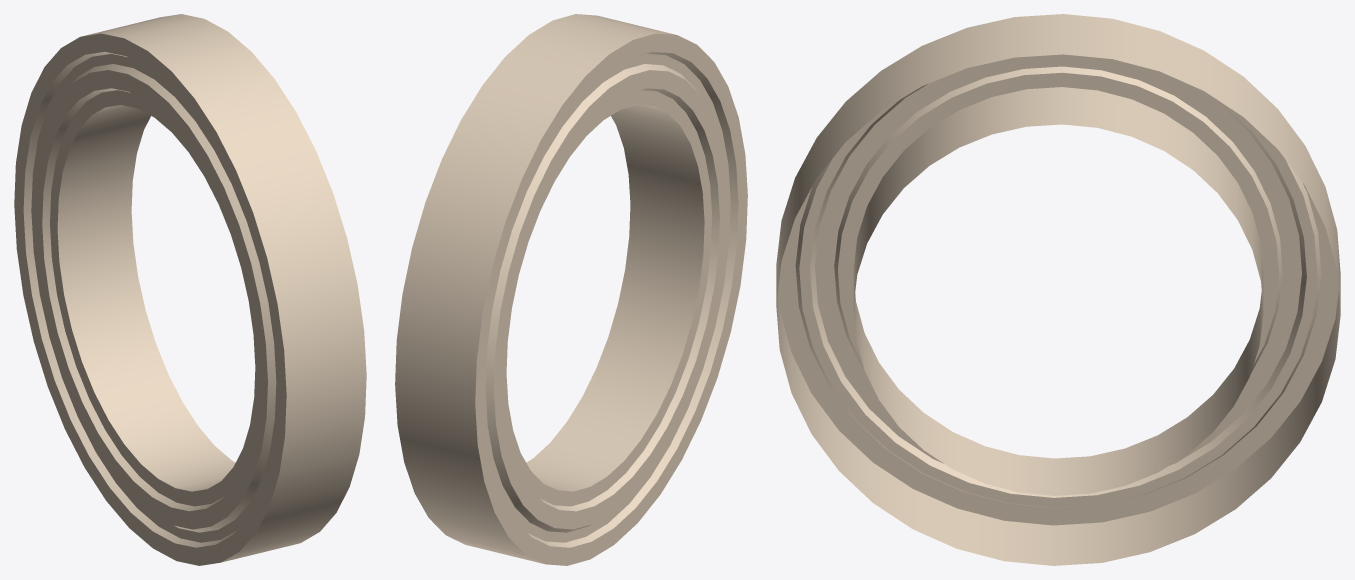
The model's file is BC_WindowDeco_A_03.fbx.
The picture shows the model from 3 angles, left to right: view 1: azimuth 30°, elevation 25°; view 2: azimuth 150°, elevation 25°; view 3: azimuth 270°, elevation 25°; orthographic projection. The views are drawn at different scales.
Visible parts, largest first — view 1: BC_WindowDeco_A_03; view 2: BC_WindowDeco_A_03; view 3: BC_WindowDeco_A_03.
Part boxes in pixels (x1=…): BC_WindowDeco_A_03: x1=14, y1=14, x2=366, y2=565; BC_WindowDeco_A_03: x1=395, y1=14, x2=747, y2=565; BC_WindowDeco_A_03: x1=776, y1=14, x2=1340, y2=565.
Size of the model in its own units: 35.25 by 208 by 208.
